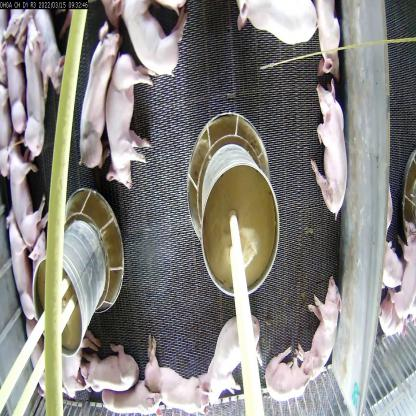Pig: (71, 13, 122, 182), (96, 59, 154, 190), (203, 317, 270, 411), (223, 0, 320, 64), (118, 0, 188, 86), (302, 269, 353, 383), (310, 82, 354, 212), (1, 213, 42, 330), (10, 136, 45, 266), (264, 348, 328, 415), (30, 13, 74, 106), (19, 36, 53, 144), (152, 356, 210, 416), (76, 350, 140, 386), (97, 386, 163, 416)
